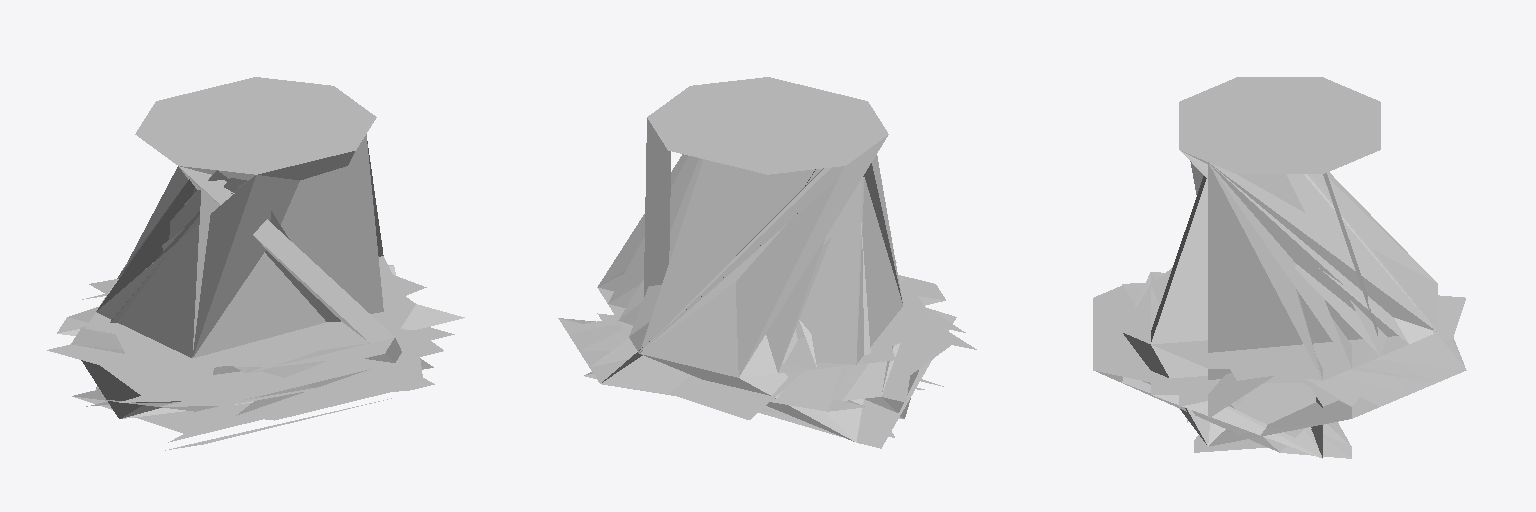
The model's file is faceless tuxedo.obj.
3 renders of one model, left to right at view 1: azimuth 30°, elevation 25°; view 2: azimuth 150°, elevation 25°; view 3: azimuth 270°, elevation 25°, orthographic.
Size of the model in its own units: 56 by 40 by 52.